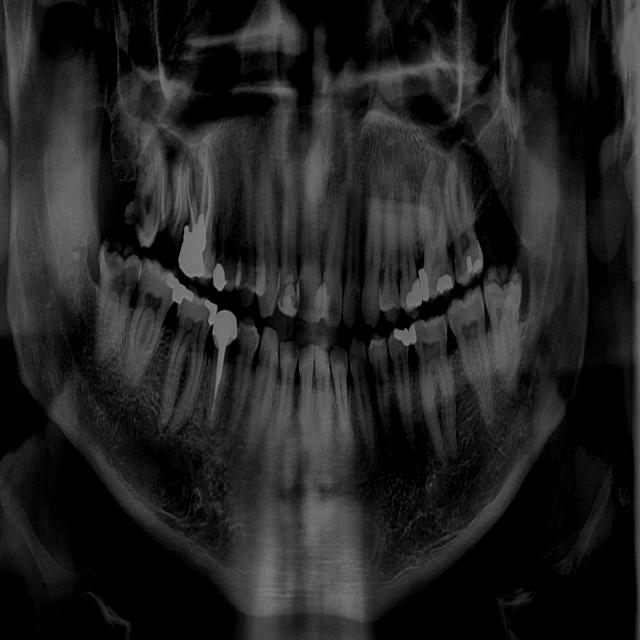Caries: (125, 188, 147, 241), (106, 241, 128, 273), (299, 277, 311, 319), (292, 279, 300, 309), (353, 289, 361, 319), (455, 255, 462, 280), (450, 259, 455, 282), (235, 339, 242, 355)
Crown: (212, 308, 239, 349)
Filling: (178, 211, 206, 277), (278, 274, 297, 316), (407, 280, 422, 310), (312, 281, 322, 321), (321, 281, 330, 324), (418, 269, 429, 303), (213, 263, 226, 291), (177, 285, 195, 305), (437, 274, 453, 295), (167, 272, 179, 300), (205, 300, 218, 325), (393, 327, 410, 346), (409, 322, 417, 345), (473, 258, 482, 272), (467, 256, 472, 272)
Root Canal Treatment: (212, 345, 227, 415), (199, 141, 208, 213), (203, 156, 211, 230), (187, 167, 196, 225)
Root Piece: (165, 149, 192, 248), (155, 140, 170, 237)
impacted tooth: (95, 249, 143, 364), (486, 268, 524, 403)
